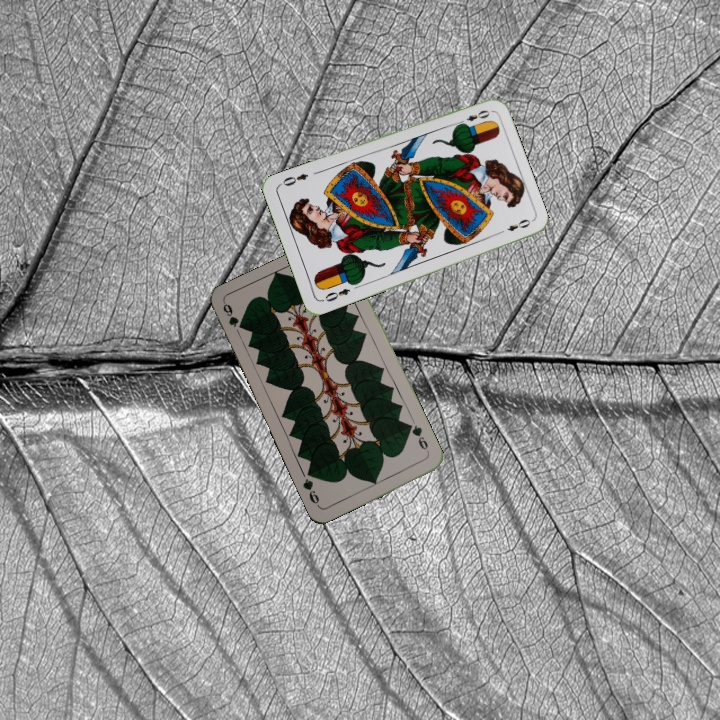EO: (454, 106, 492, 128), (318, 284, 353, 304)
G9: (405, 420, 432, 457), (219, 299, 247, 332)
